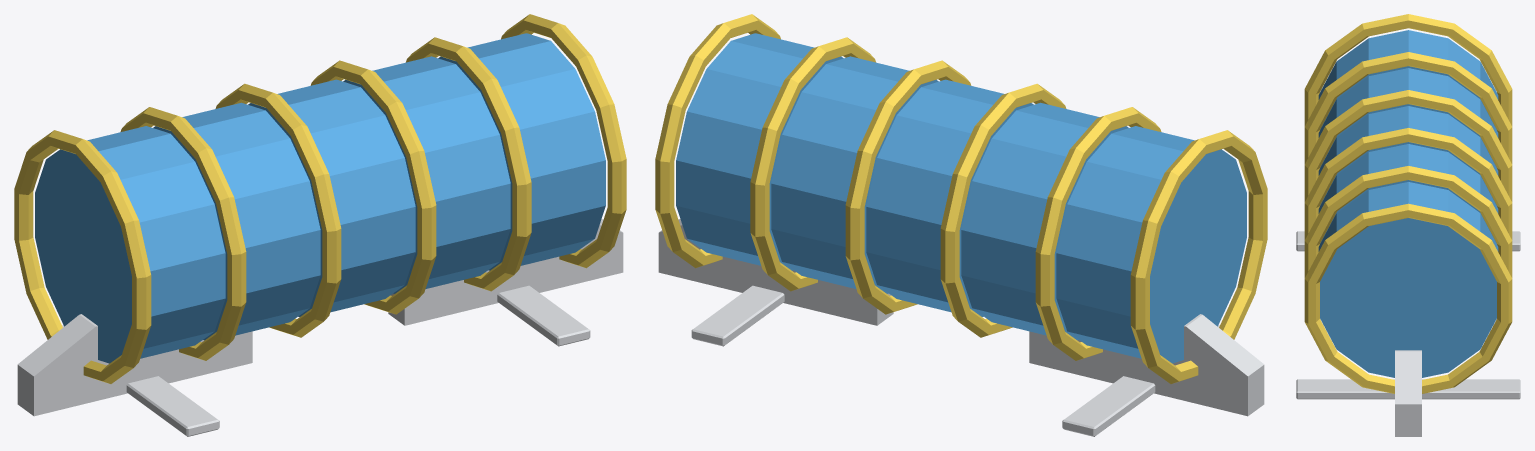
File: trampoline-park-and-soft-play-crawl-tunnel-5b9b0685__34622.glb
3 views of the same model, side by side, from view 1: azimuth 30°, elevation 25°; view 2: azimuth 150°, elevation 25°; view 3: azimuth 270°, elevation 25° (orthographic). The views are drawn at different scales.
Parts seen in each view (by area): view 1: crawl-tunnel; view 2: crawl-tunnel; view 3: crawl-tunnel.
Part boxes in pixels (x1,y1,x2,y2): crawl-tunnel: (14,14,626,436); crawl-tunnel: (655,14,1267,436); crawl-tunnel: (1296,14,1520,436).
Size of the model in its own units: 2.48 by 1.03 by 1.
